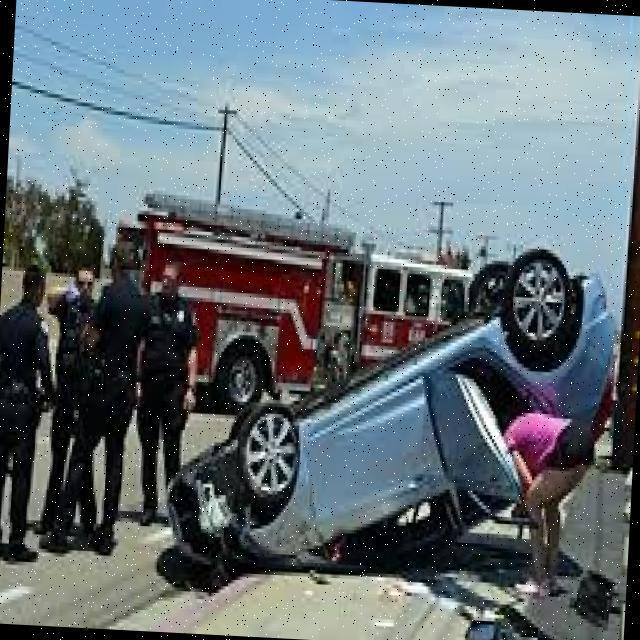accident: (142, 238, 637, 613)
